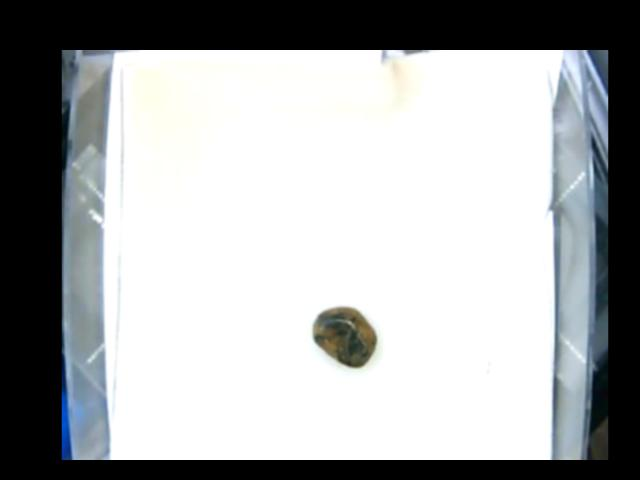Pebble: (308, 308, 376, 368)
